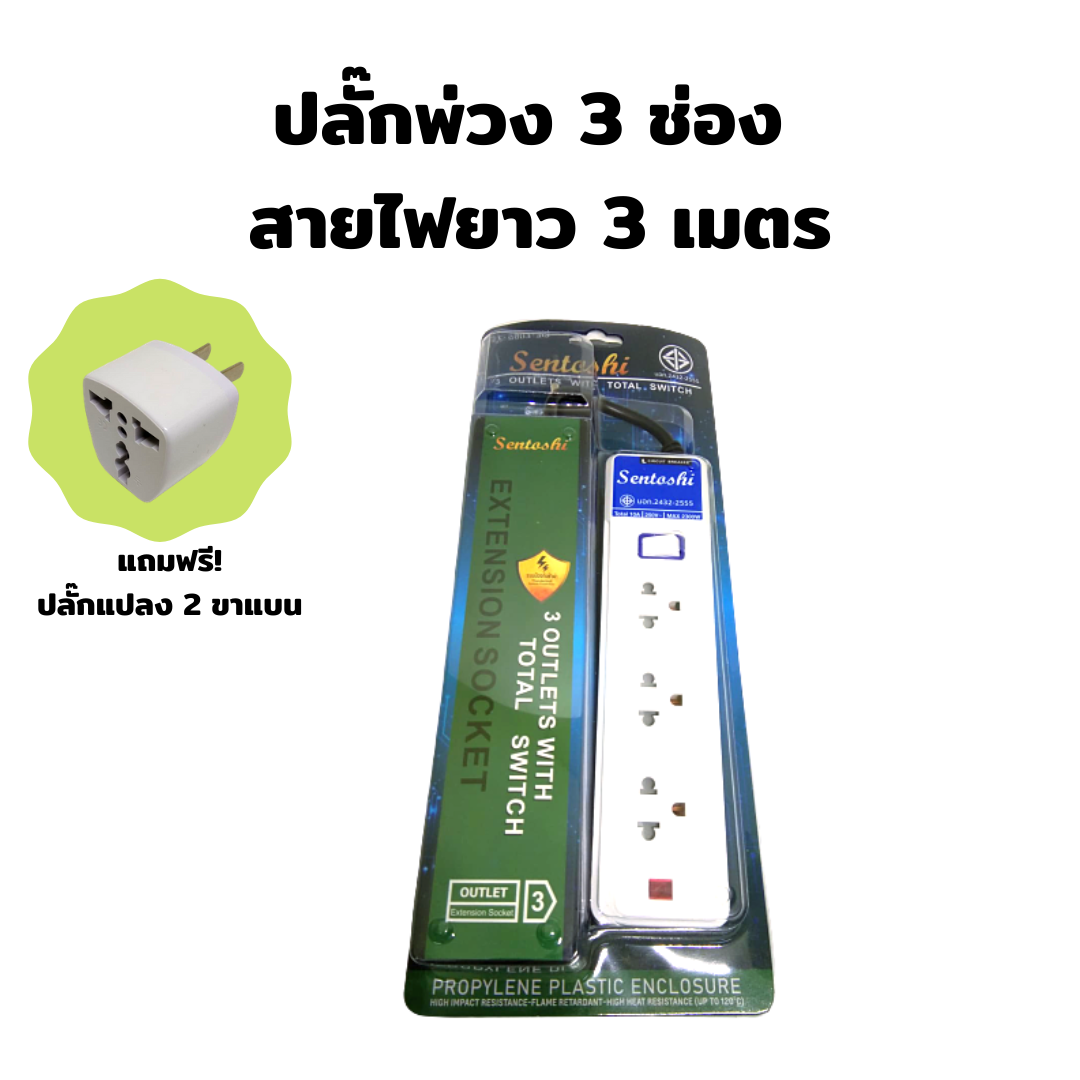Three_eye_plug: (571, 433, 743, 952), (62, 332, 261, 524)
